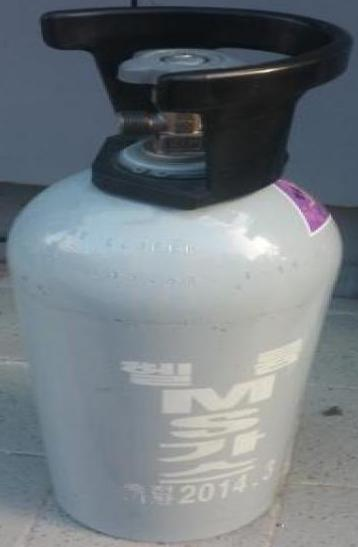cylinder: (1, 1, 358, 547)
